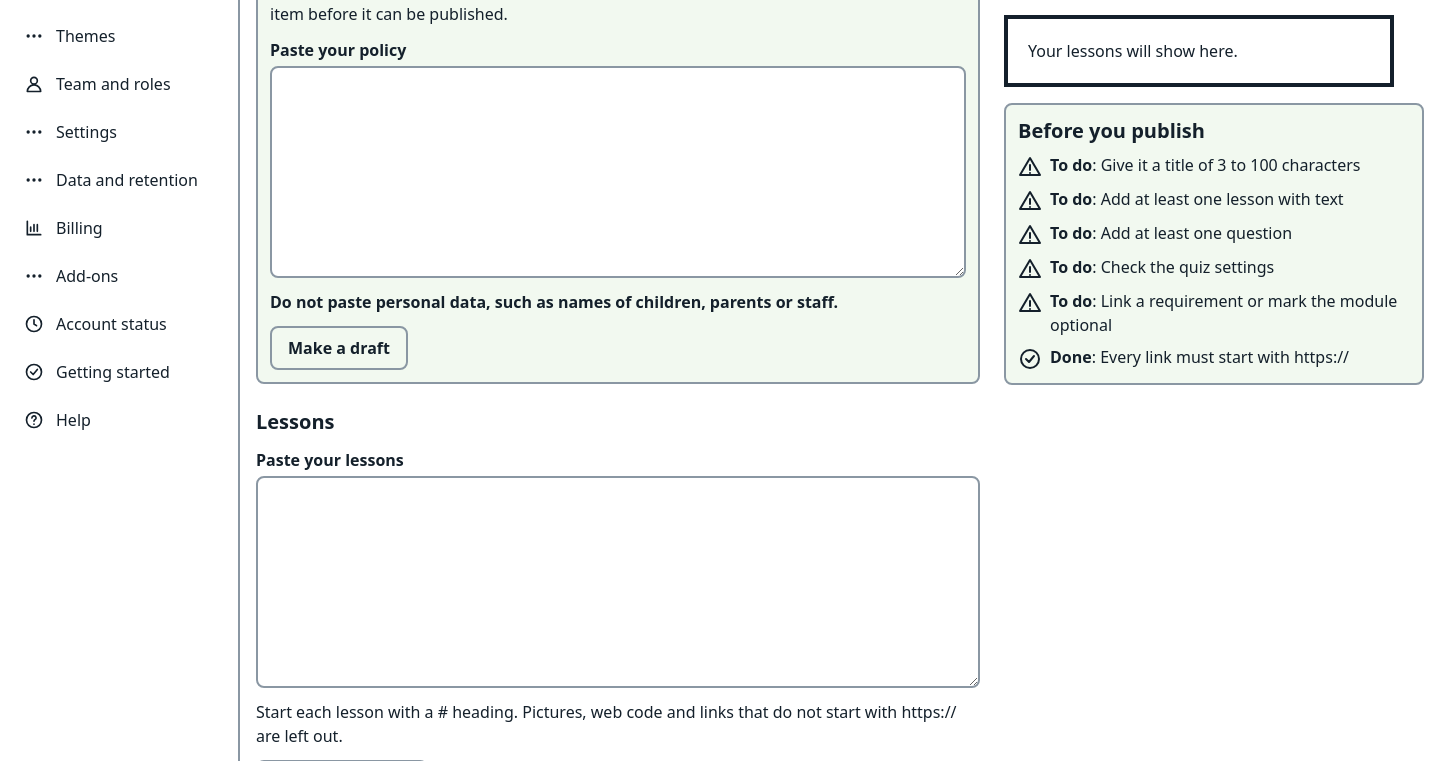
Test: C7 Draft from a policy › asks for a policy when the box is blank
This screenshot has width=1440, height=761.
(page scrolled)
Click the button "Make a draft".
click(339, 348)  # box [270,326,408,370]
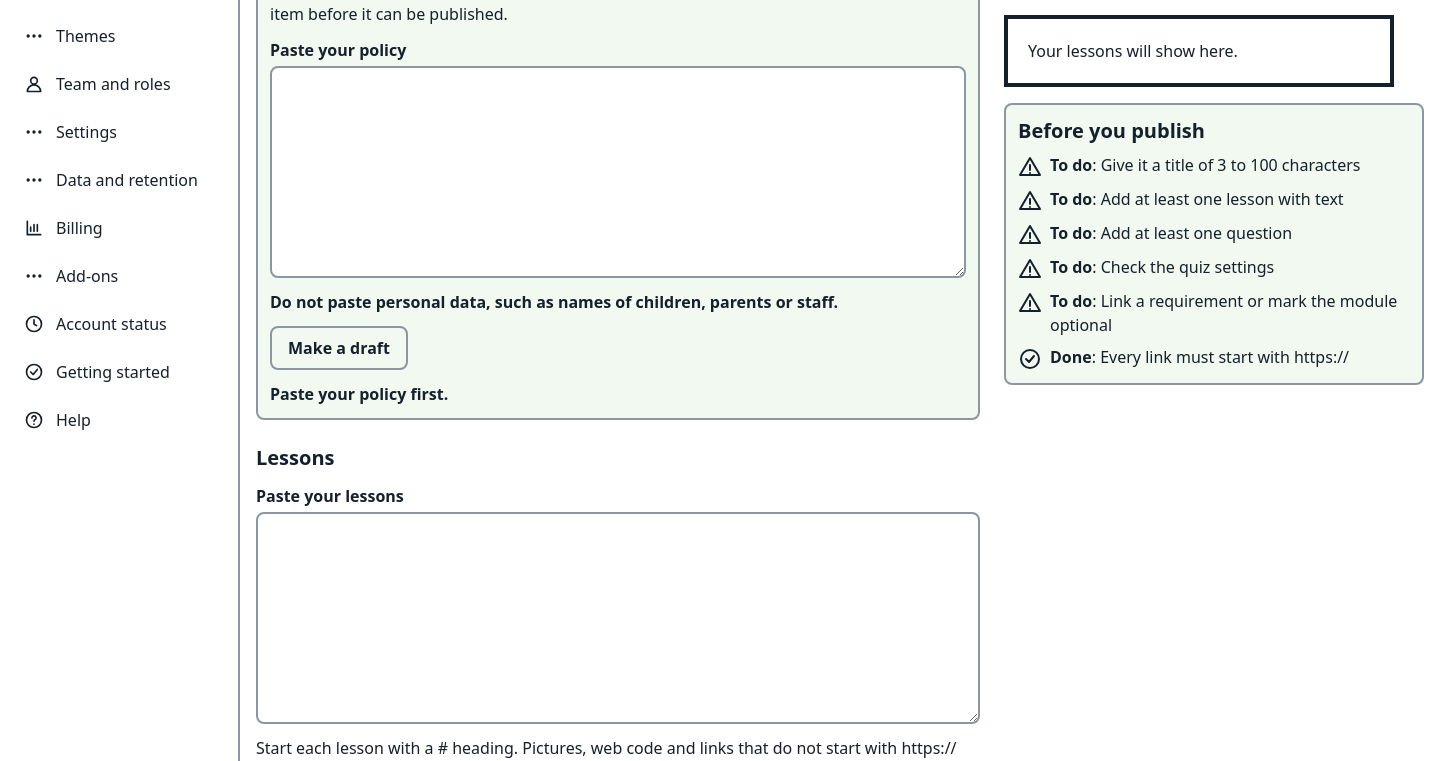
Check: the message reads "Paste your policy first.", box [270,383,448,405]
